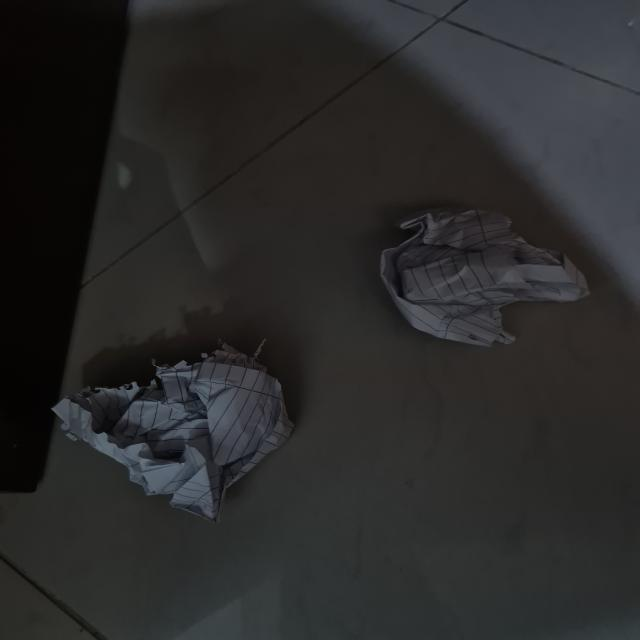Paper: (51, 349, 283, 512), (389, 212, 588, 347)
